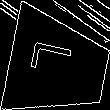L_E: (32, 45, 84, 86)
